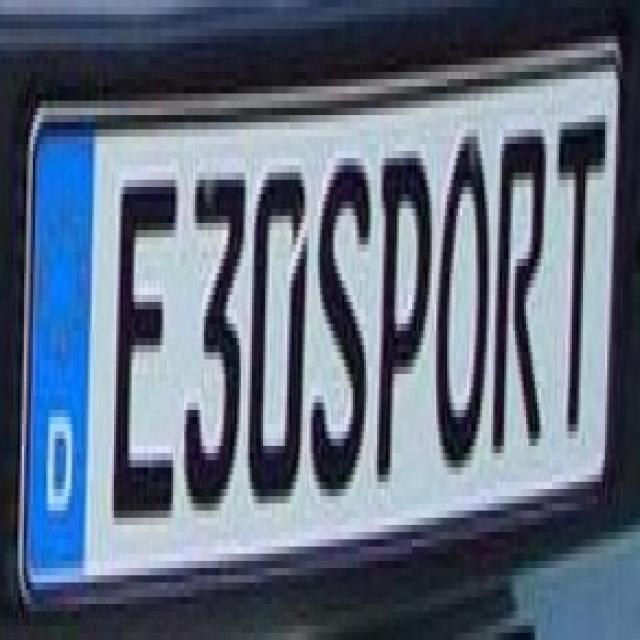License Plate: (8, 24, 632, 630)
